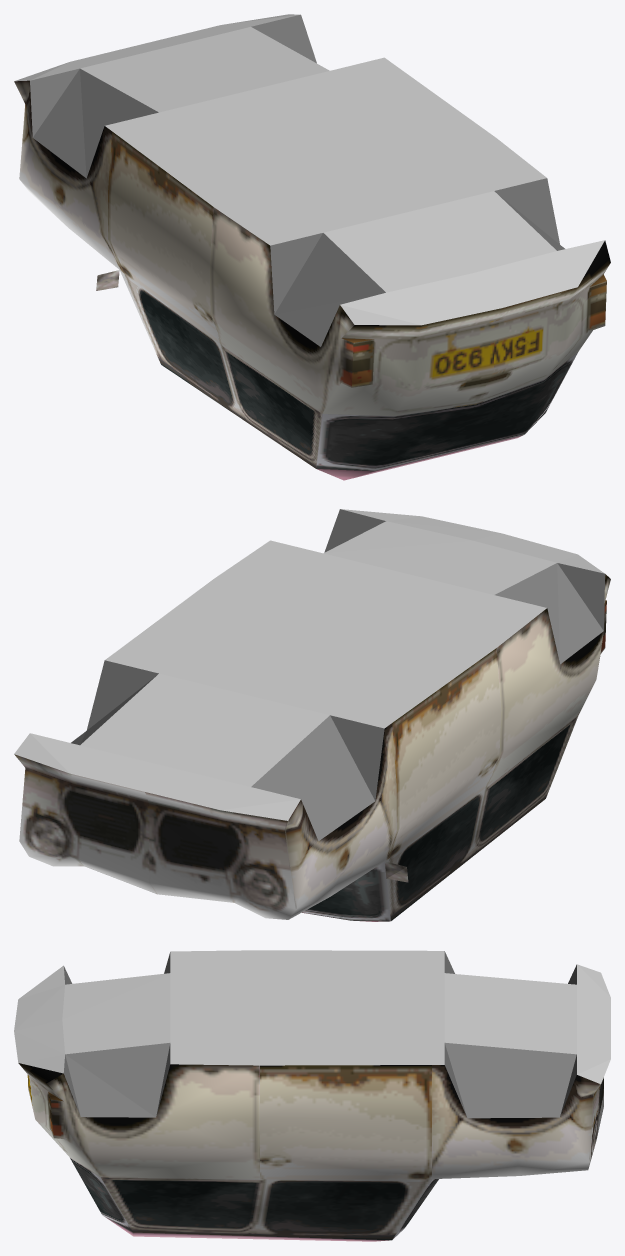
File: HAVANA_model12_clean.obj
The picture shows the model from 3 angles, top to bottom: view 1: azimuth 30°, elevation 25°; view 2: azimuth 150°, elevation 25°; view 3: azimuth 270°, elevation 25°; orthographic projection. The views are drawn at different scales.
Parts seen in each view (by area): view 1: HAVANA_model12_clean; view 2: HAVANA_model12_clean; view 3: HAVANA_model12_clean.
Part boxes in pixels (x1,y1,x2,y2): HAVANA_model12_clean: (14,14,610,480); HAVANA_model12_clean: (14,509,610,921); HAVANA_model12_clean: (14,950,610,1241).
Size of the model in its own units: 212 by 154 by 420.
